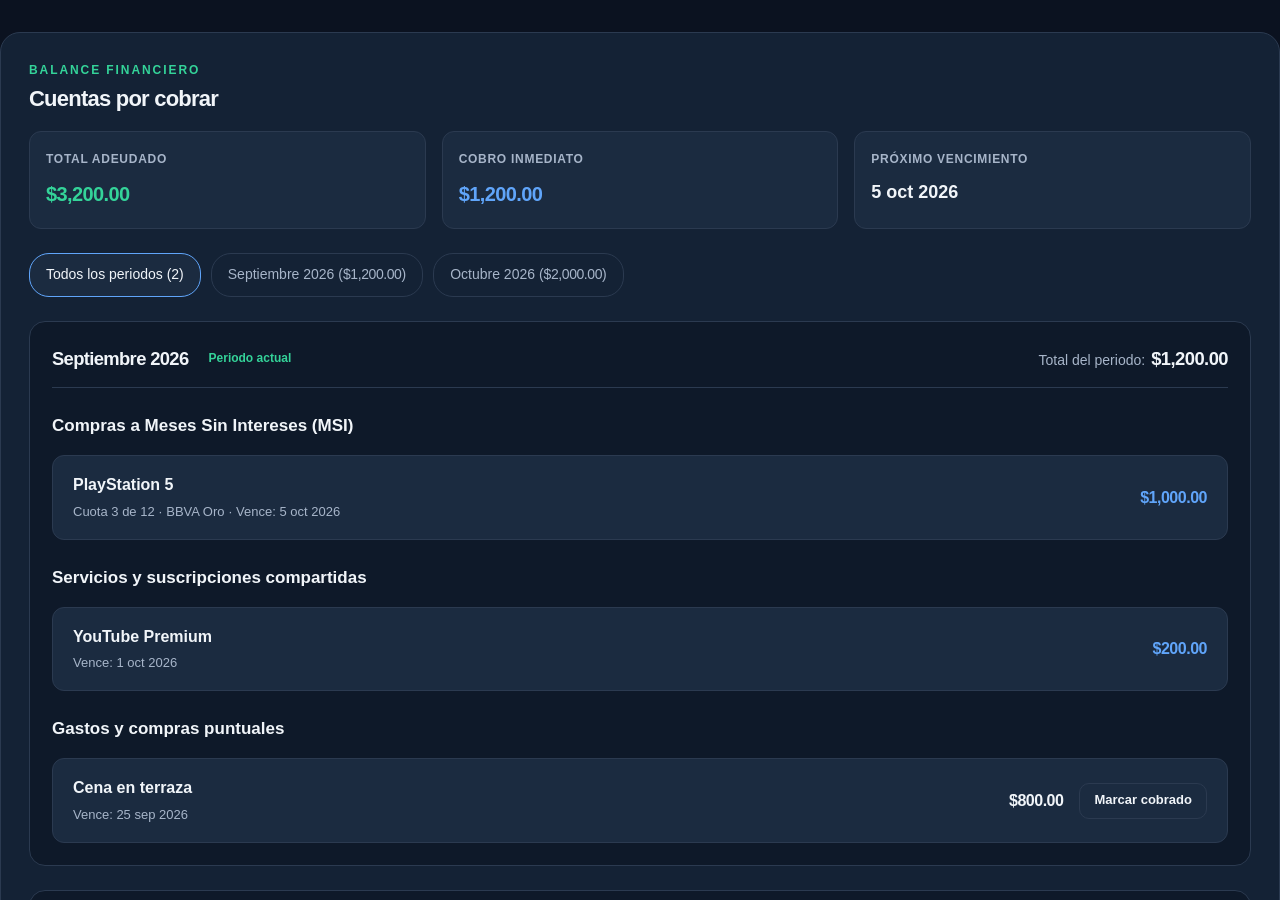
DebtSummaryView › filters items by period when clicking period tabs
Check: the heading "Septiembre 2026" is shown, box x1=52 y1=348 x2=188 y2=369
Check: the text "Periodo actual" is shown, box x1=208 y1=351 x2=291 y2=365
# Filter by October 2026
Click the button "Octubre 2026 ($2,000.00)".
click(528, 275)  # box x1=433 y1=253 x2=624 y2=297
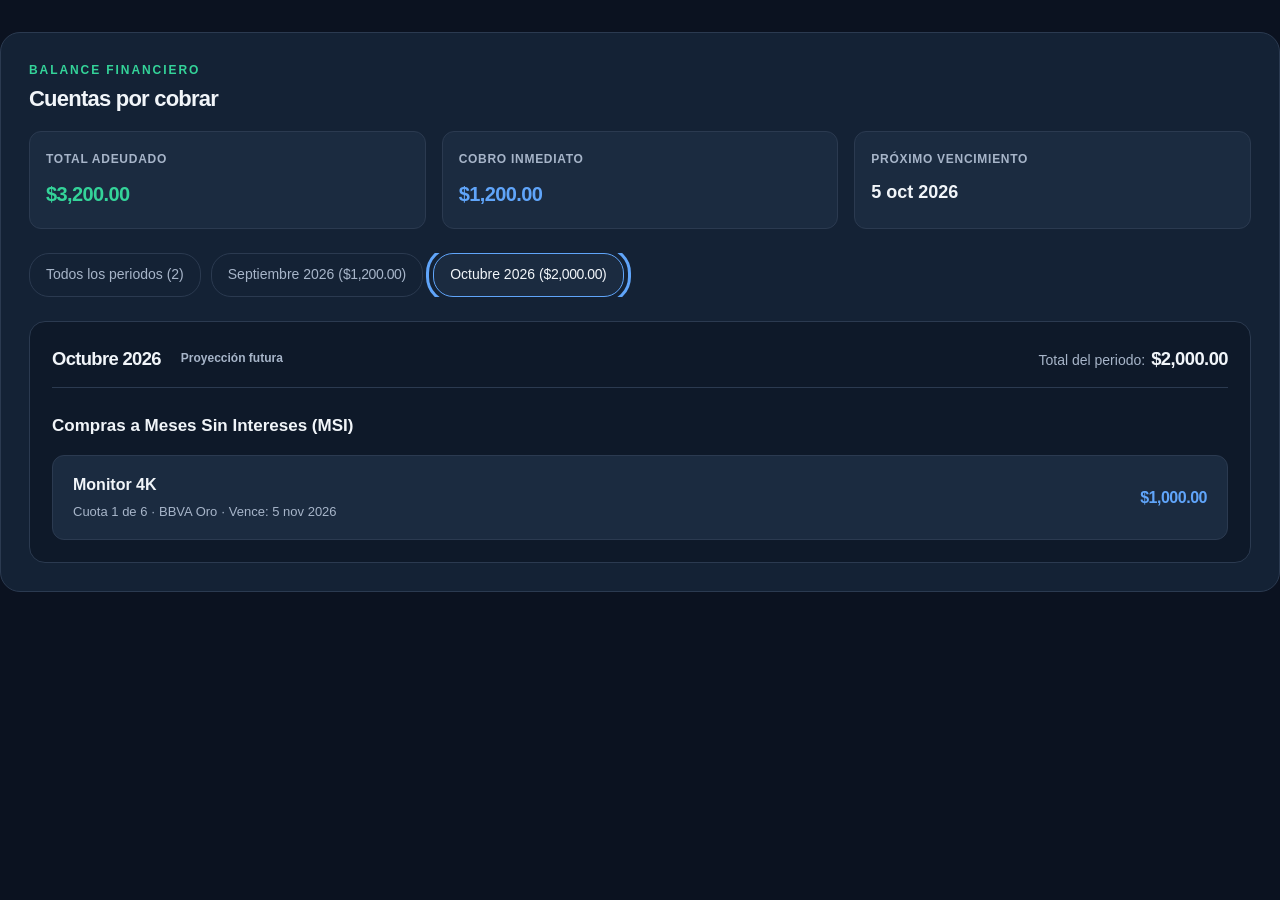
Check: the text "Monitor 4K" is shown, box x1=73 y1=476 x2=156 y2=493
Check: the text "PlayStation 5" is gone
